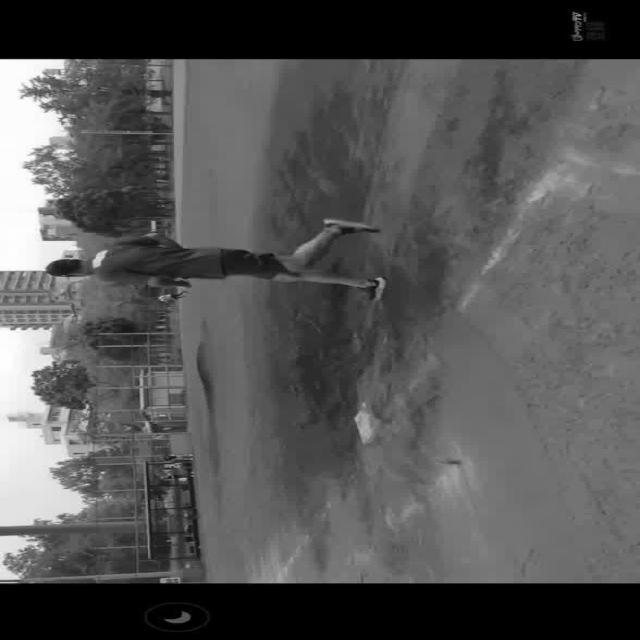base: (349, 399, 383, 445)
shoe: (318, 216, 382, 236), (359, 275, 395, 305)
